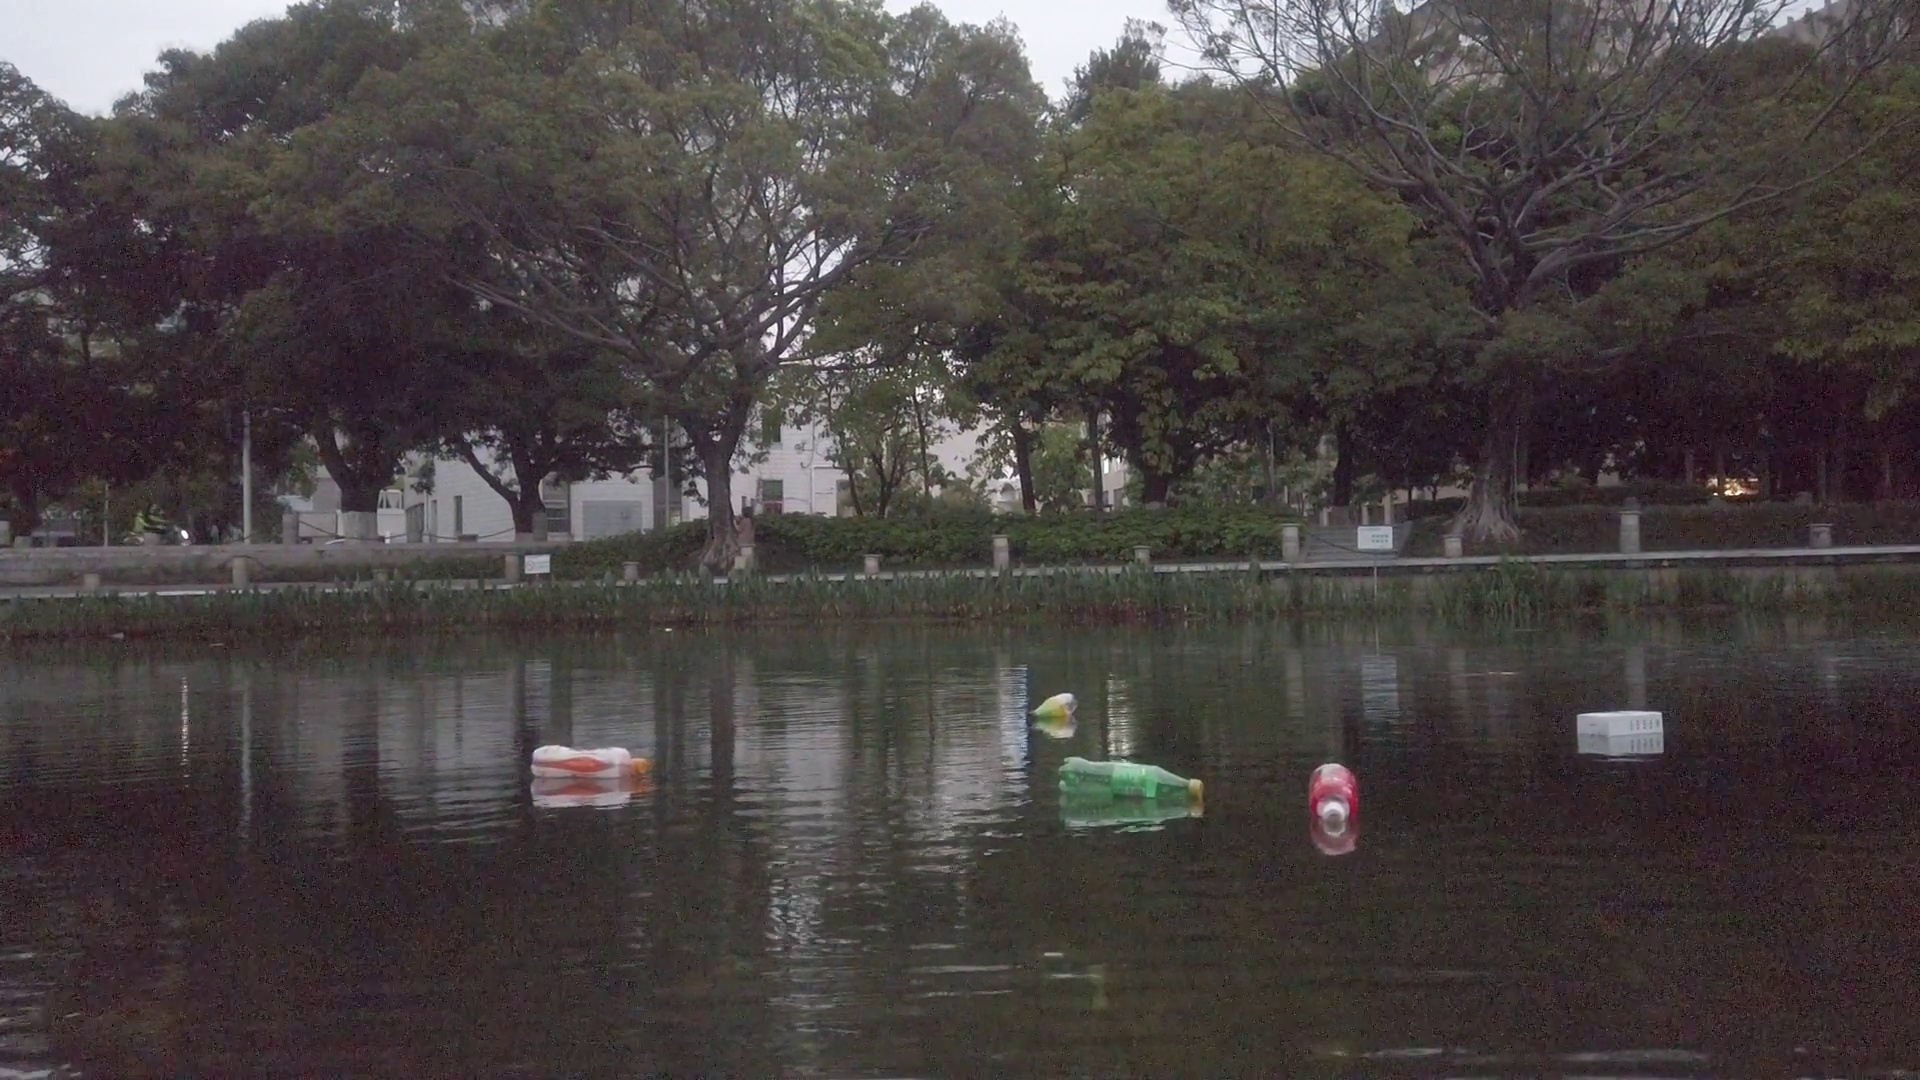bottle: (1059, 753, 1205, 800), (531, 746, 647, 778), (1309, 760, 1356, 829), (1025, 690, 1080, 721)
carton: (1576, 707, 1667, 735)
